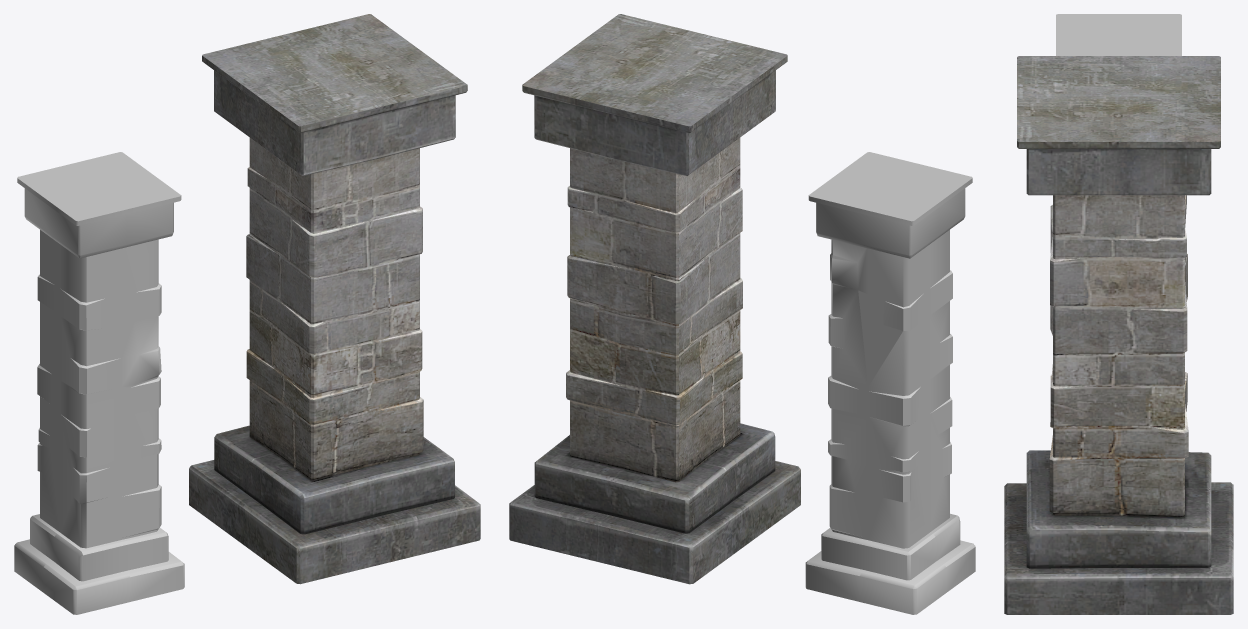
Rendered from stone_pillar.FBX.
3 renders of one model, left to right at view 1: azimuth 30°, elevation 25°; view 2: azimuth 150°, elevation 25°; view 3: azimuth 270°, elevation 25°, orthographic. The views are drawn at different scales.
Parts seen in each view (by area): view 1: stone_pillar_01, mesh0; view 2: stone_pillar_01, mesh0; view 3: stone_pillar_01, mesh0.
Boxes of the visible parts, box(x1,y1,x2,y2) form: stone_pillar_01: box(189, 14, 480, 584); mesh0: box(14, 152, 184, 614); stone_pillar_01: box(509, 14, 800, 584); mesh0: box(805, 152, 975, 614); stone_pillar_01: box(1004, 56, 1233, 614); mesh0: box(1056, 14, 1181, 55).
Size of the model in its own units: 96.14 by 108 by 48.
